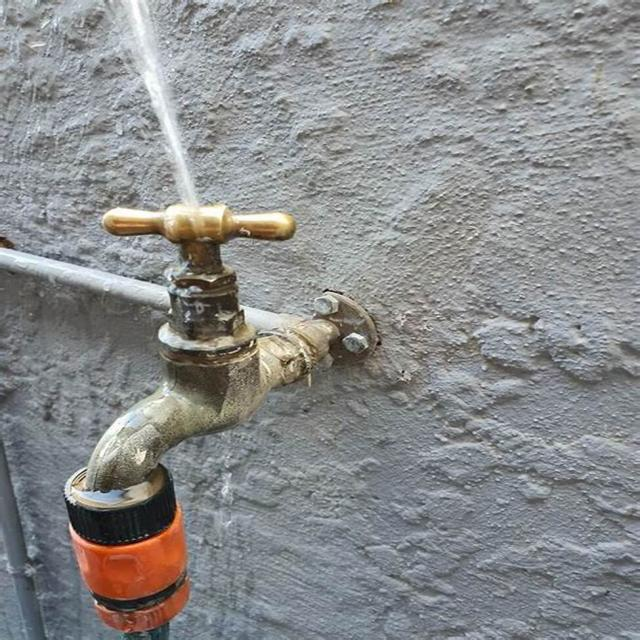leak: (118, 0, 198, 210)
